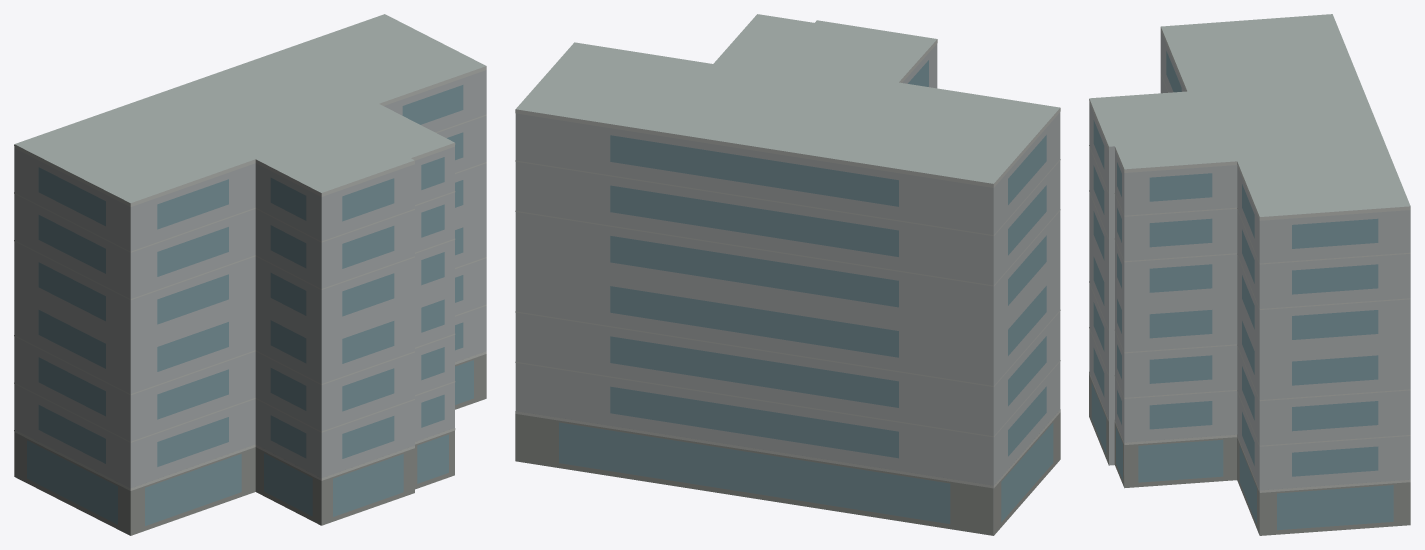
Rendered from survey-upis-32743391.glb.
The picture shows the model from 3 angles, left to right: view 1: azimuth 30°, elevation 25°; view 2: azimuth 150°, elevation 25°; view 3: azimuth 270°, elevation 25°; orthographic projection. The views are drawn at different scales.
Parts seen in each view (by area): view 1: survey-upis-32743391.tmp; view 2: survey-upis-32743391.tmp; view 3: survey-upis-32743391.tmp.
Part boxes in pixels (x1,y1,x2,y2): survey-upis-32743391.tmp: [14, 14, 486, 535]; survey-upis-32743391.tmp: [515, 14, 1060, 535]; survey-upis-32743391.tmp: [1089, 14, 1410, 535].
Size of the model in its own units: 28.17 by 20.6 by 18.85.
